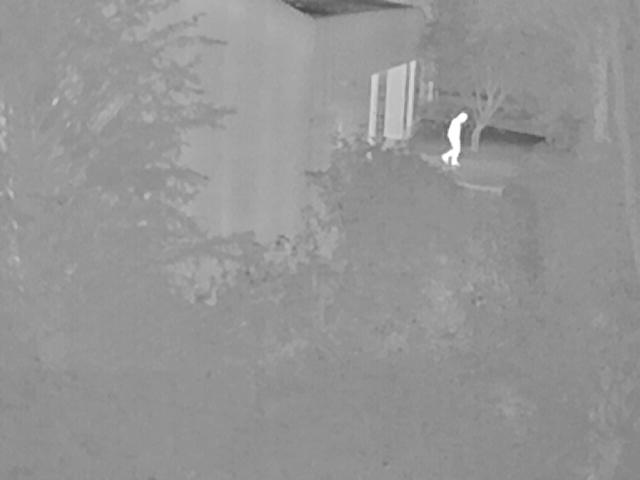person: (442, 111, 468, 168)
